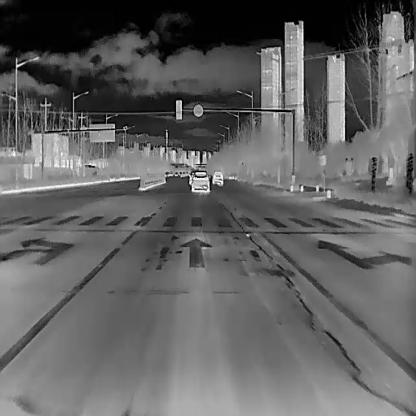car: (191, 170, 209, 192), (212, 169, 223, 185), (188, 169, 194, 184), (174, 171, 178, 176), (168, 170, 172, 175), (164, 170, 168, 175), (178, 171, 182, 174)
